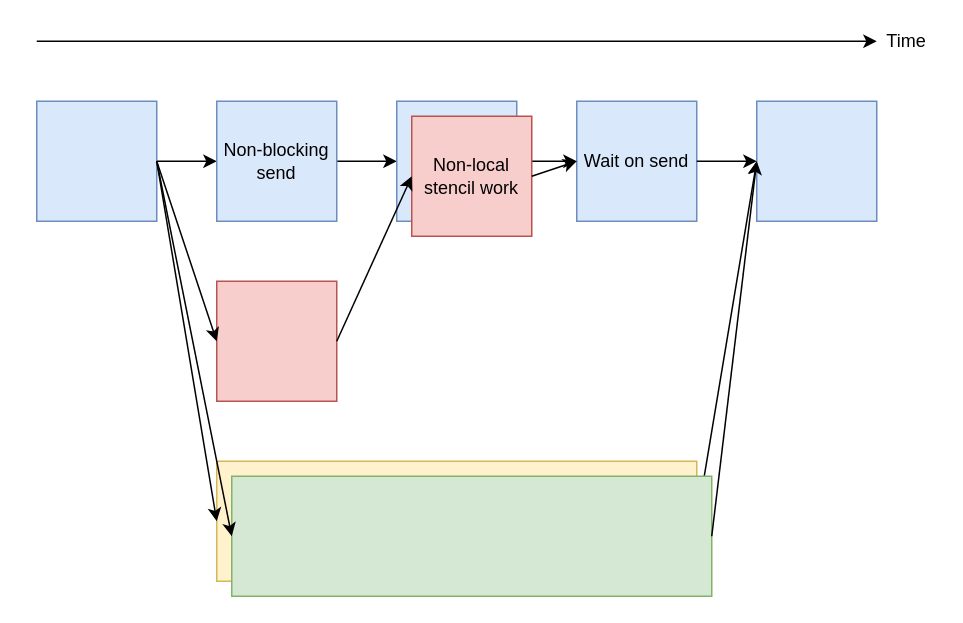
Image size: 963x623. Some labels were removed from this diagram. Here are the shapes that lost their labels. From the top down, the box of each, then its label:
(215, 280, 337, 401): Blocking receive
(230, 475, 712, 596): Local stencil work
